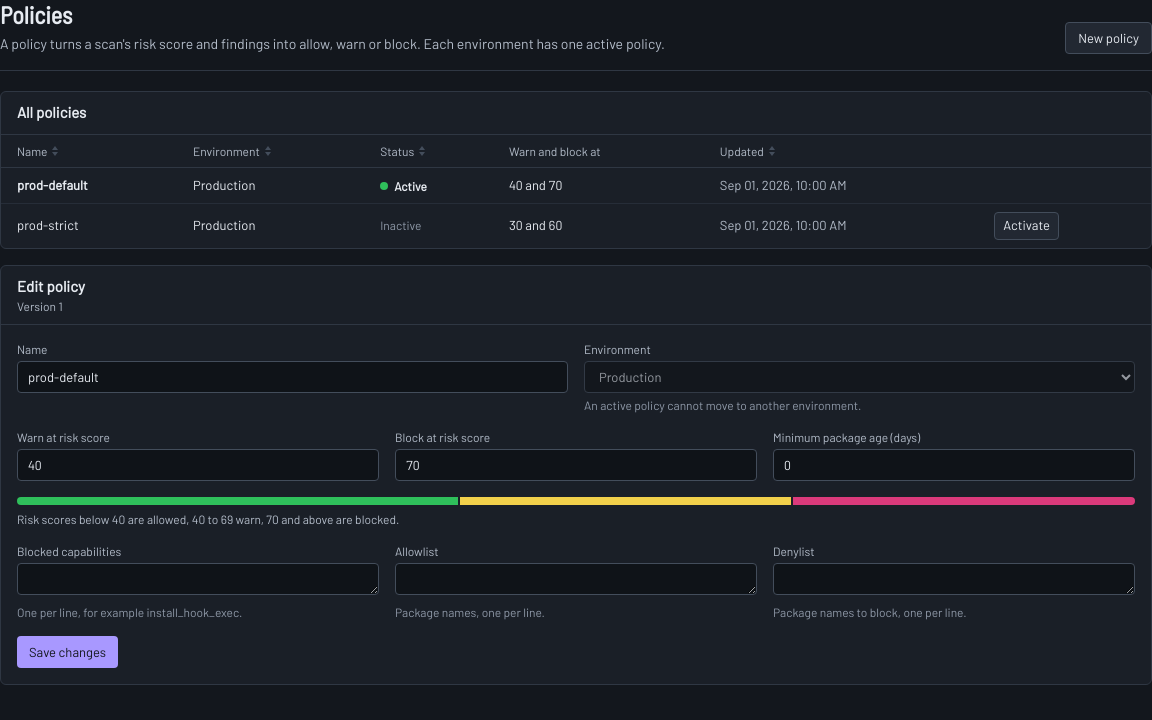
Test: Policies › keeps the dialog open with the server's reason when activation fails
The image size is (1152, 720).
Click the button "Activate" at (1027, 226), box [994,212,1059,240]
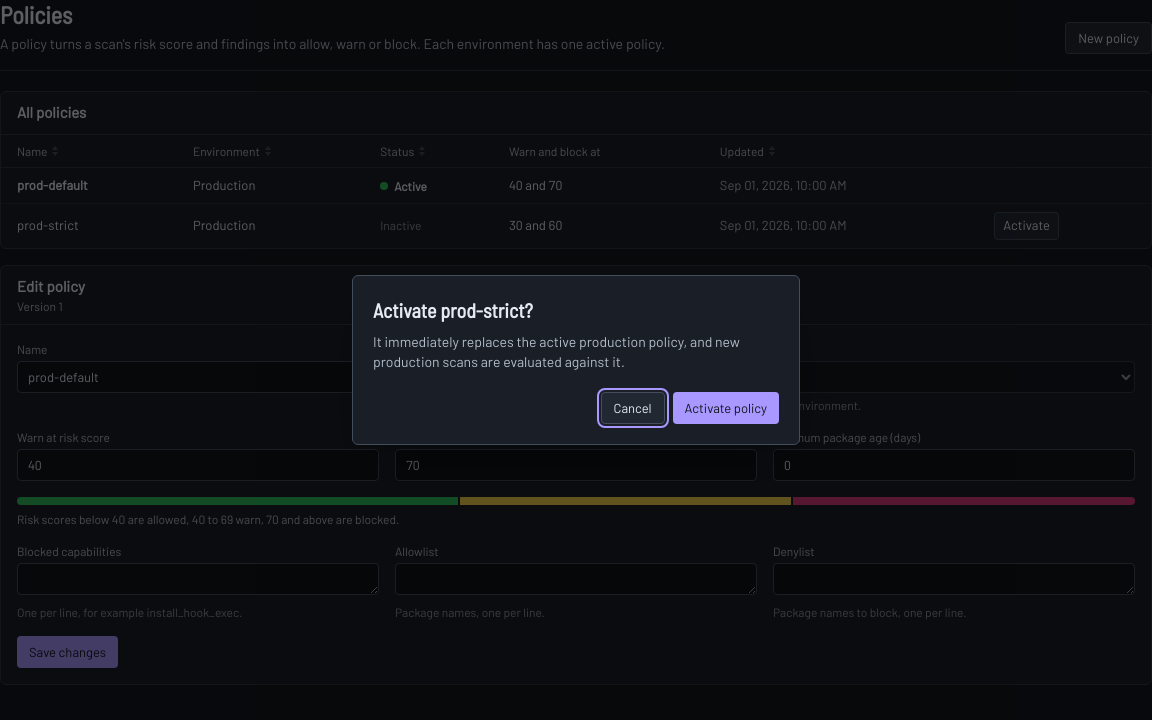
Click the button "Activate policy" at (726, 408), box [673,392,779,424]
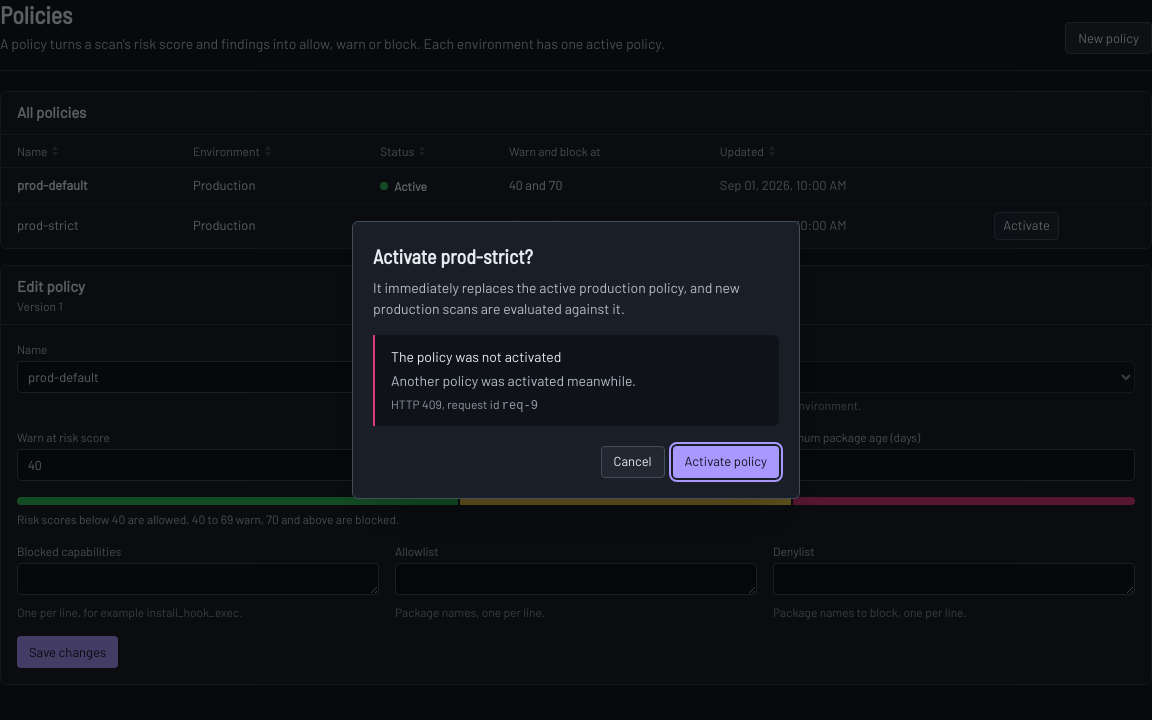
Result: the text "The policy was not activated" is shown at [391,347,561,367]
Result: the text "Another policy was activated meanwhile." is shown at [391,371,636,392]
